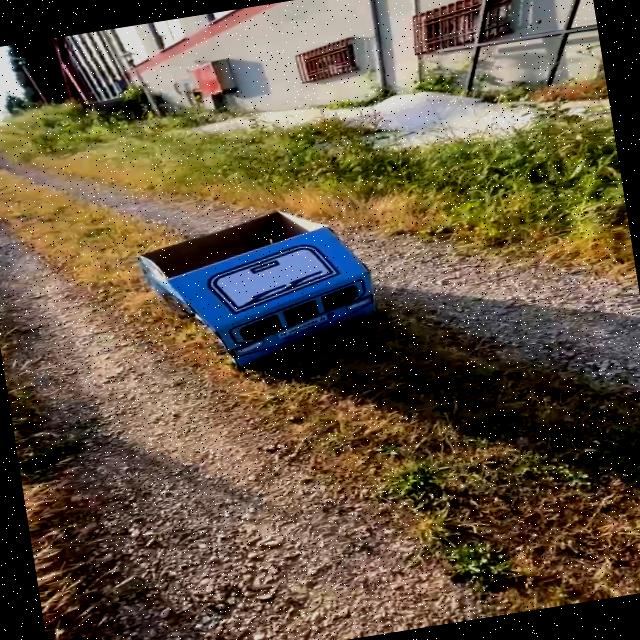blue_car: (131, 177, 407, 398)
